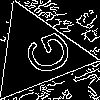G: (13, 28, 75, 83)
